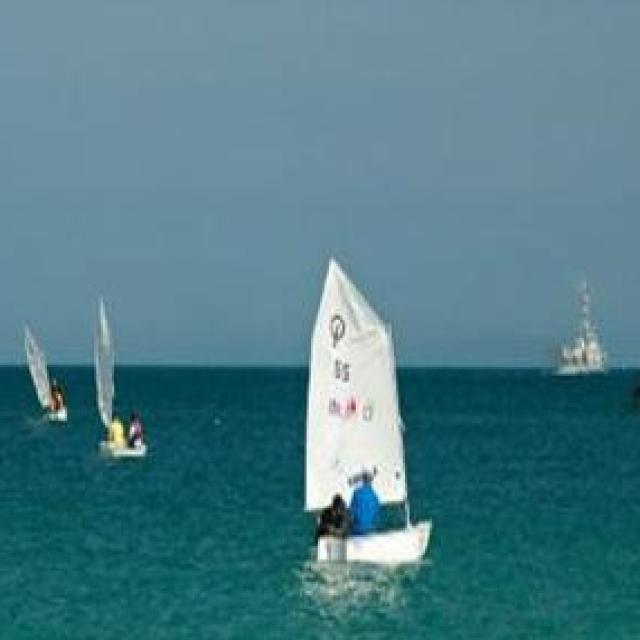navalvessels: (550, 264, 609, 386)
sailboat: (281, 242, 434, 575), (87, 302, 163, 461), (20, 318, 69, 438)
